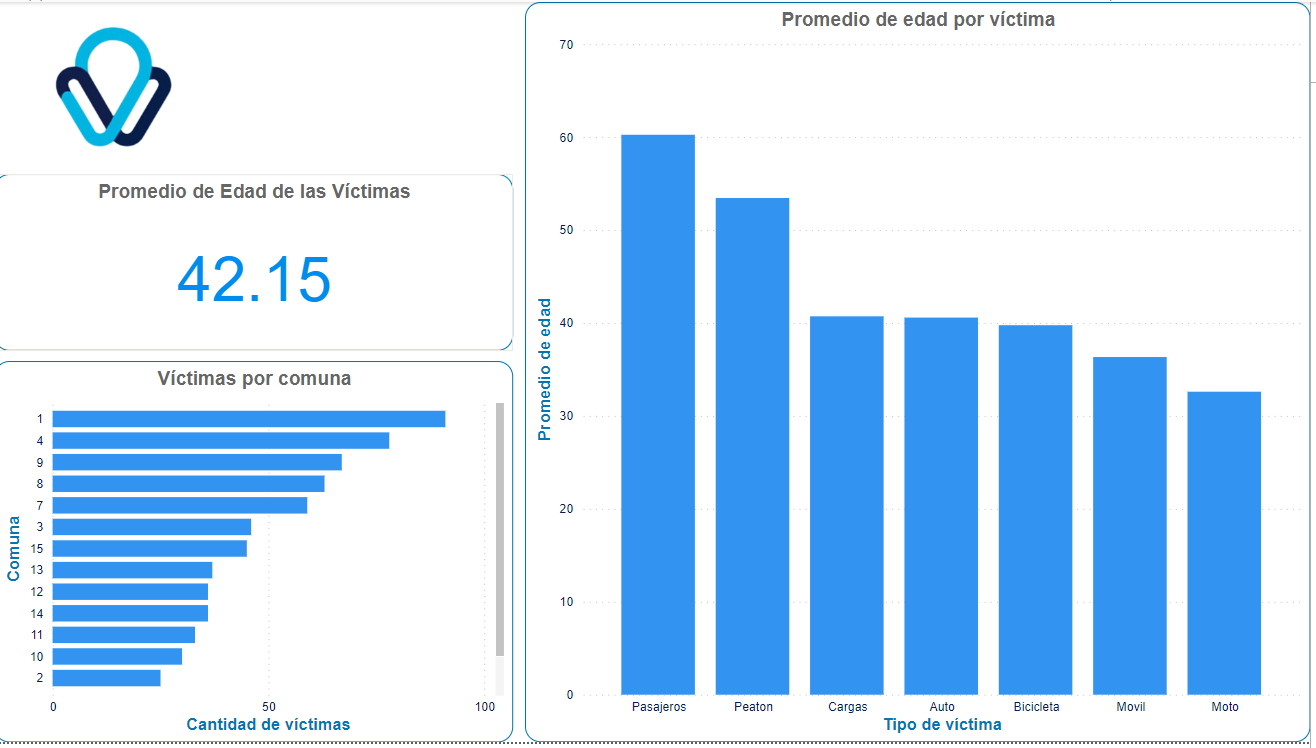

This screenshot's page, from the dashboard's own definition file:
{"tool":"powerbi","page":{"name":"Promedio de Víctimas","canvas":[1280,720],"ordinal":2},"visuals":[{"type":"barChart","title":"Víctimas por comuna","fields":{"Category":["Homicidios_Final.COMUNA"],"Y":["CountNonNull(Homicidios_Final.VICTIMA)"]},"box":[0,349.2,504.8,370.6],"z":0},{"type":"card","title":"Promedio de Edad de las Víctimas","fields":{"Values":["Avg(Homicidios_Final.EDAD)"]},"box":[0,167.3,504.8,172.2],"z":1},{"type":"columnChart","title":"Promedio de edad por víctima","fields":{"Y":["Avg(Homicidios_Final.EDAD)"],"Category":["Homicidios_Final.VICTIMA"]},"box":[516.5,0,763.5,719.8],"z":2},{"type":"image","box":[0,0,228.6,160.5],"z":4}]}

Visuals, with their boxes in screenshot pixels (x1, y1, x2, y2), scaled from the page's 1280x720 canvas onto the 1316x748 screenshot:
"Víctimas por comuna" barChart: 0:363:519:747
"Promedio de Edad de las Víctimas" card: 0:174:519:353
"Promedio de edad por víctima" columnChart: 531:0:1315:747
image: 0:0:235:167
